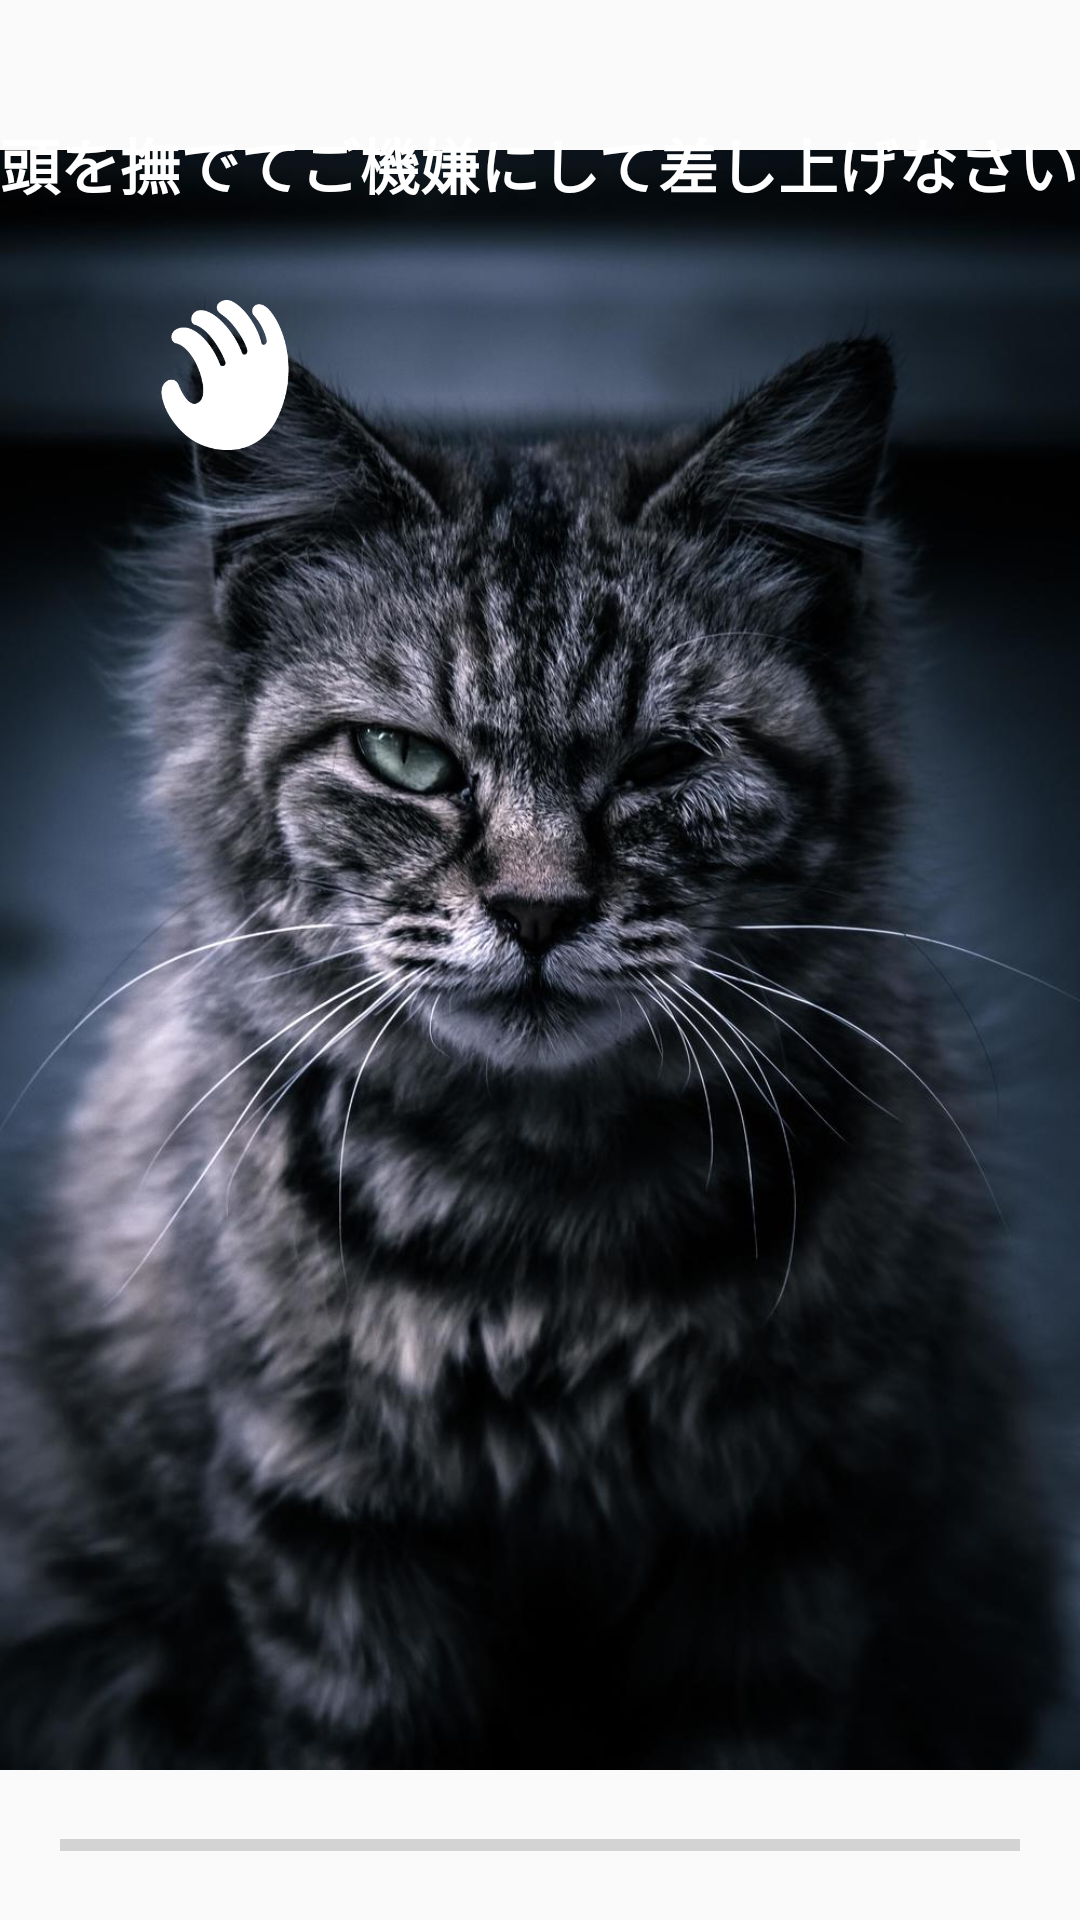

Point at icon controls on the screen. Image size 1080×1920, points as point (x, y).
hand: point (225, 375)
